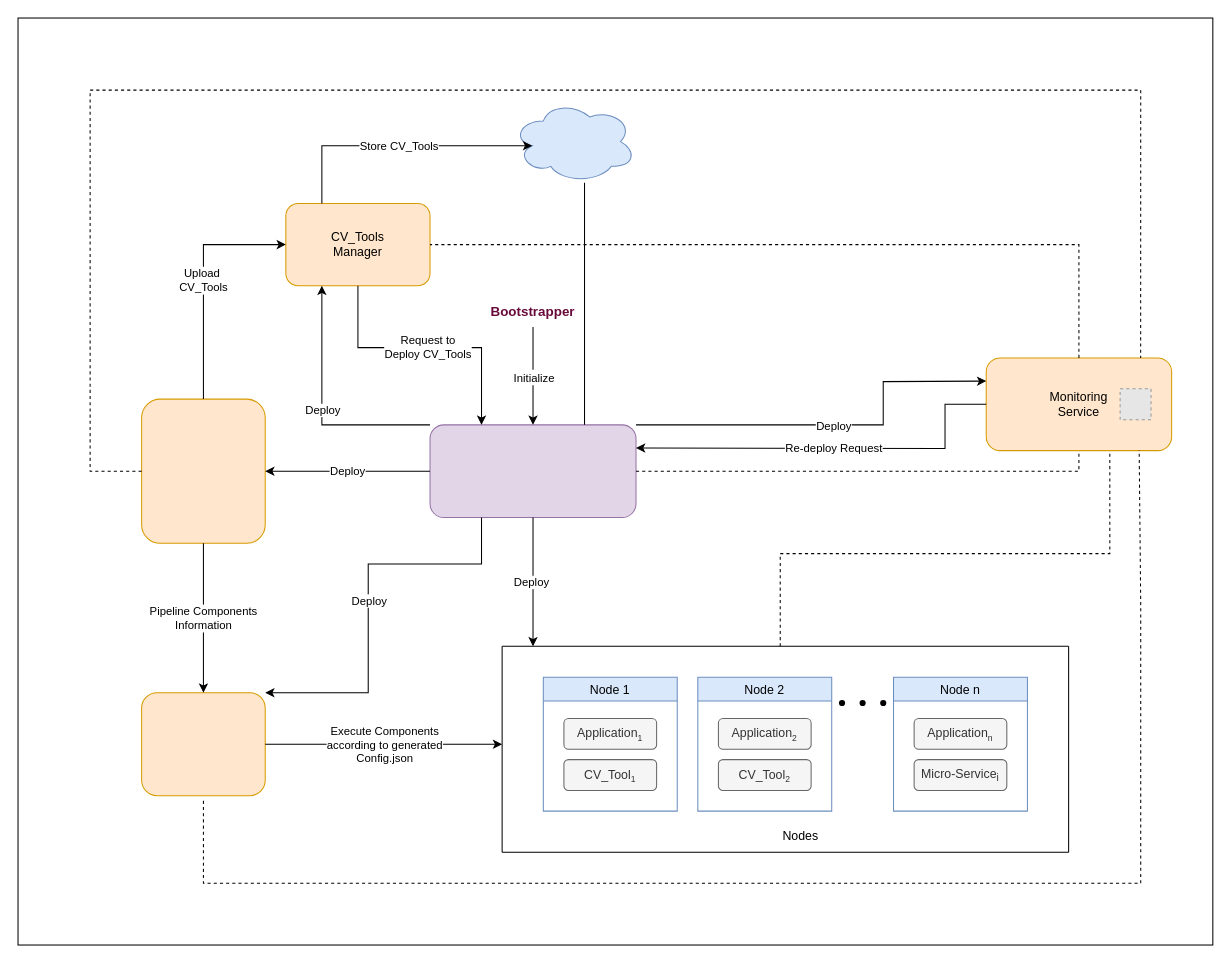
Image size: 1231x963. Some labels were removed from this diagram. Grey dashed boxes stand in for pictures. The shapes that lost their labels are listed below. From the top down, each one's centre as x and y in pixels, then its label:
the point at 573,141: Cloud Storage
the point at 203,470: UI Manager
the point at 532,471: Node Manager
the point at 203,744: Scheduler Service
